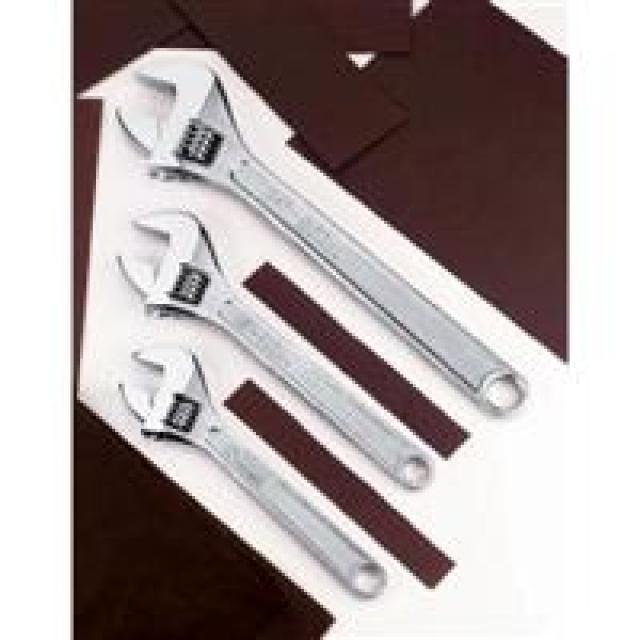wrench: (109, 50, 540, 428), (112, 201, 442, 495), (110, 339, 396, 606)
